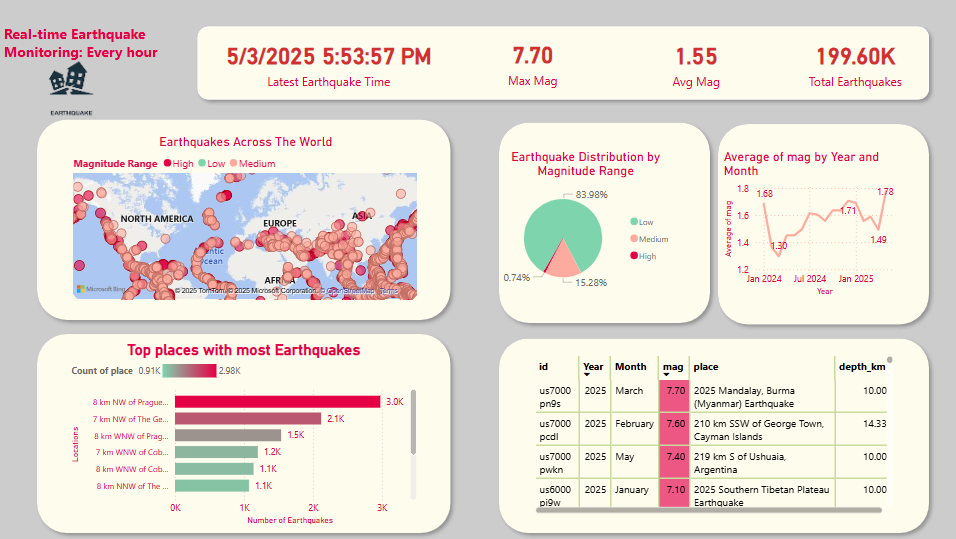

What the dashboard file says about the page in this screenshot:
{"tool":"powerbi","page":{"name":"Page 1","canvas":[1280,720],"ordinal":0},"visuals":[{"type":"shape","box":[656,442,592,278],"z":0},{"type":"shape","box":[948,156,300,286],"z":1000},{"type":"shape","box":[656,154,300,286],"z":2000},{"type":"shape","box":[40,436,570,284],"z":3000},{"type":"shape","box":[254,26,994,116],"z":4000},{"type":"card","fields":{"Values":["earthquakes.Total Number Of Earthquakes"]},"box":[1070,30,140,106],"z":5000},{"type":"card","fields":{"Values":["earthquakes.Average Of Magnitudes"]},"box":[858,30,140,106],"z":6000},{"type":"card","fields":{"Values":["earthquakes.Max Magnitude"]},"box":[640,28,140,106],"z":7000},{"type":"card","fields":{"Values":["earthquakes.Latest Earthquake Time"]},"box":[288,30,300,106],"z":8000},{"type":"lineChart","fields":{"Category":["earthquakes.Earthquake Date.Variation.Date Hierarchy.Year","earthquakes.Earthquake Date.Variation.Date Hierarchy.Month"],"Y":["Avg(earthquakes.mag)"]},"box":[960,198,250,200],"z":9000},{"type":"clusteredBarChart","title":"Top places with most Earthquakes","fields":{"Category":["earthquakes.place"],"Y":["CountNonNull(earthquakes.id)"]},"box":[90,454,470,250],"z":10000},{"type":"pieChart","title":"Earthquake Distribution by Magnitude Range","fields":{"Y":["CountNonNull(earthquakes.id)"],"Category":["earthquakes.Magnitude Category"]},"box":[656,198,250,200],"z":11000},{"type":"tableEx","fields":{"Values":["earthquakes.id","earthquakes.time_utc_human.Variation.Date Hierarchy.Year","earthquakes.time_utc_human.Variation.Date Hierarchy.Month","earthquakes.mag","earthquakes.place","earthquakes.depth_km"]},"box":[702,464,500,232],"z":12000},{"type":"shape","box":[40,150,570,286],"z":13000},{"type":"map","title":"Earthquakes Across The World","fields":{"X":["earthquakes.longitude"],"Y":["earthquakes.latitude"],"Series":["earthquakes.Magnitude Category"],"Size":["earthquakes.Magnitude Value"]},"box":[92,172,470,234],"z":14000},{"type":"textbox","box":[0,26,234,72],"z":15000},{"type":"image","box":[0,50,190,122],"z":15002}]}

Visuals, with their boxes in screenshot pixels (x1, y1, x2, y2), scaled from the page's 1280x720 canvas onto the 956x539 screenshot:
shape: <region>490, 331, 932, 538</region>
shape: <region>708, 117, 932, 331</region>
shape: <region>490, 115, 714, 329</region>
shape: <region>30, 326, 456, 538</region>
shape: <region>190, 19, 932, 106</region>
card - earthquakes.Total Number Of Earthquakes: <region>799, 22, 904, 102</region>
card - earthquakes.Average Of Magnitudes: <region>641, 22, 745, 102</region>
card - earthquakes.Max Magnitude: <region>478, 21, 583, 100</region>
card - earthquakes.Latest Earthquake Time: <region>215, 22, 439, 102</region>
lineChart - earthquakes.Earthquake Date.Variation.Date Hierarchy.Year x earthquakes.Earthquake Date.Variation.Date Hierarchy.Month: <region>717, 148, 904, 298</region>
"Top places with most Earthquakes" clusteredBarChart: <region>67, 340, 418, 527</region>
"Earthquake Distribution by Magnitude Range" pieChart: <region>490, 148, 677, 298</region>
tableEx - earthquakes.id x earthquakes.time_utc_human.Variation.Date Hierarchy.Year: <region>524, 347, 898, 521</region>
shape: <region>30, 112, 456, 326</region>
"Earthquakes Across The World" map: <region>69, 129, 420, 304</region>
textbox: <region>0, 19, 175, 73</region>
image: <region>0, 37, 142, 129</region>
